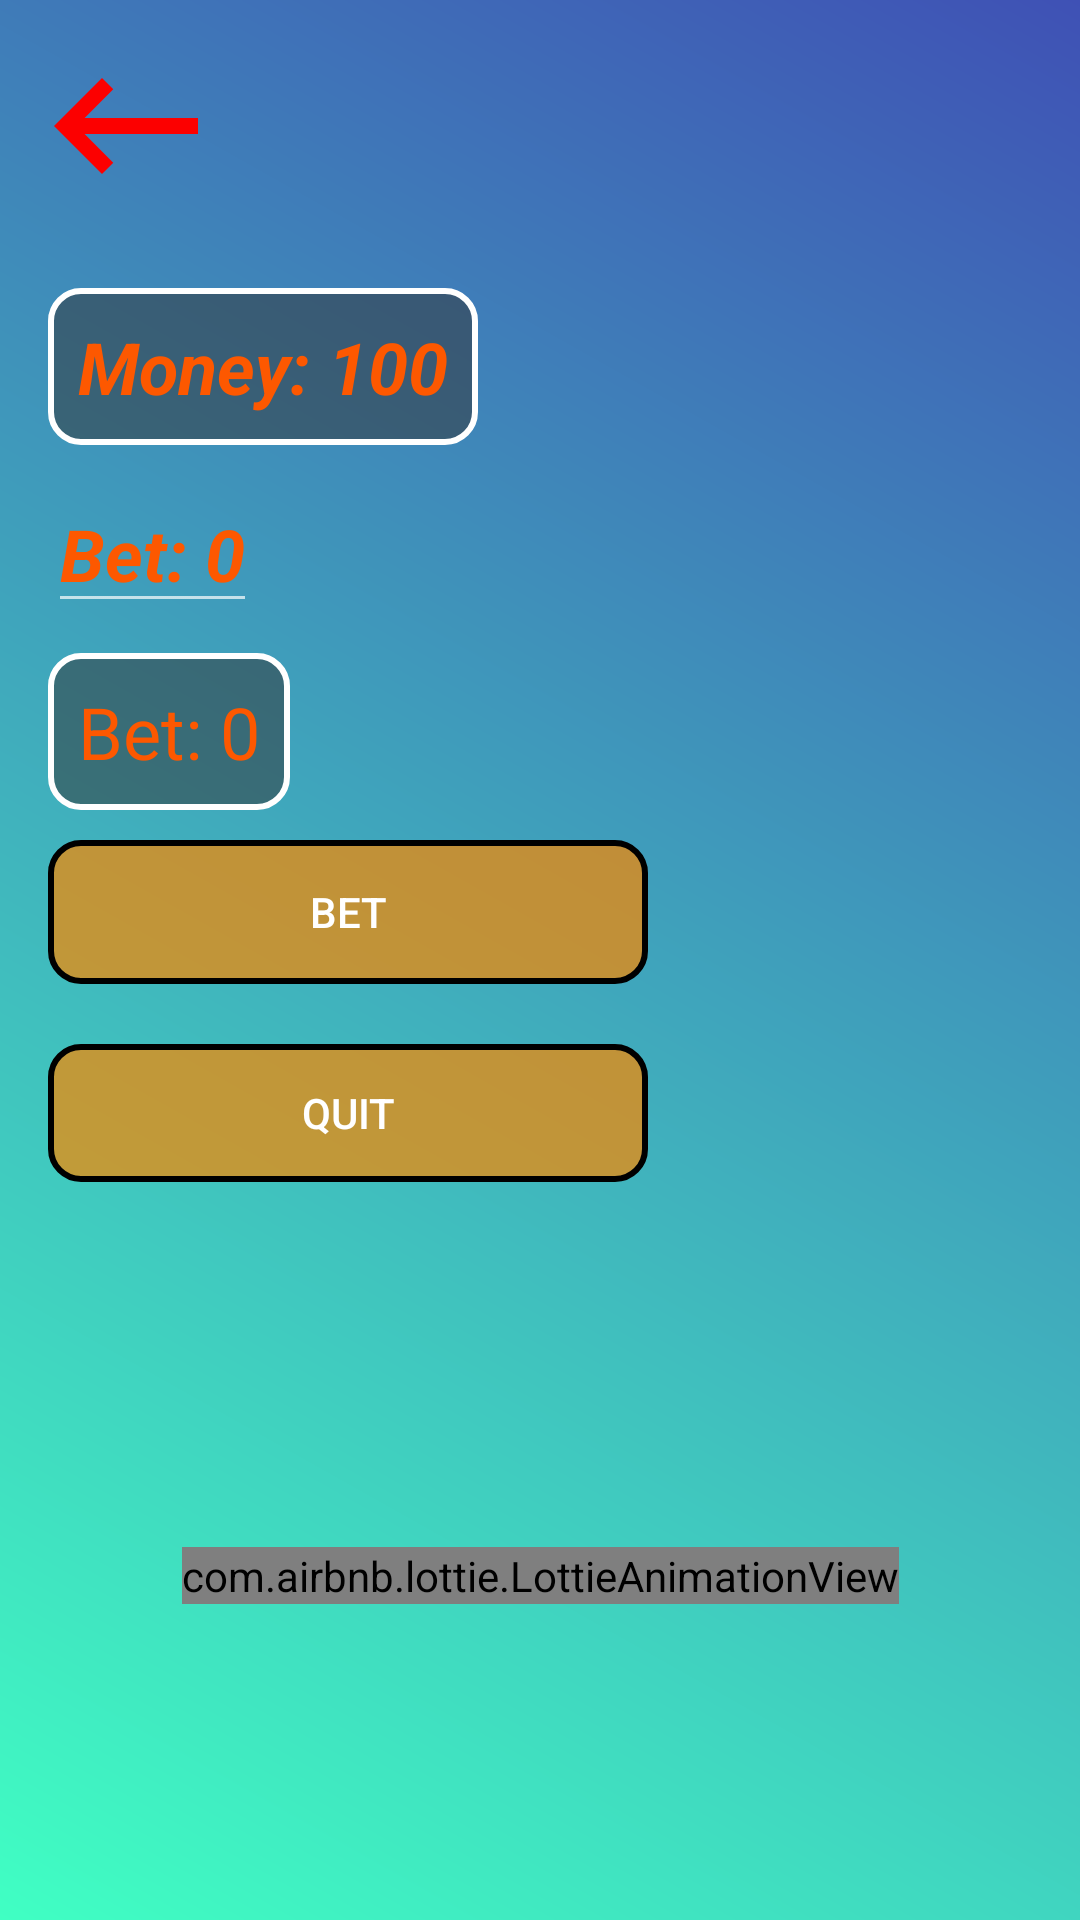

Named icons in this screenshot (1080px x 1920px) and their bounding boxes, (x1, y1, x2, y2):
back: (54, 78, 198, 174)
